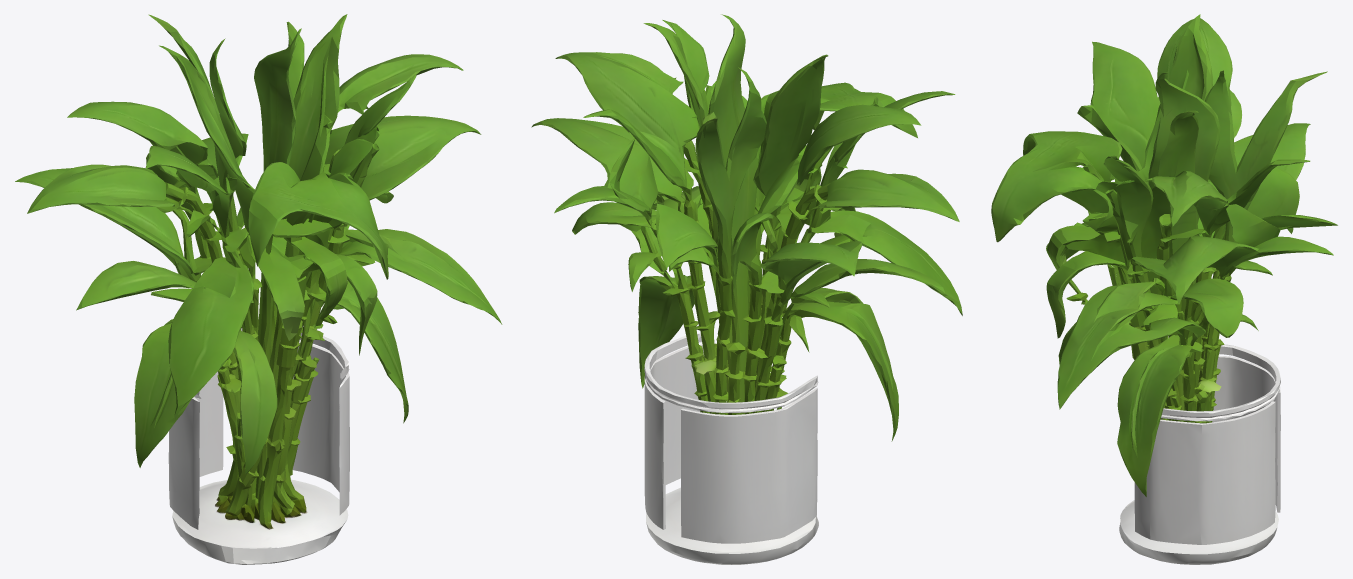
Rendered from bamboo.glb.
3 views of the same model, side by side, from view 1: azimuth 30°, elevation 25°; view 2: azimuth 150°, elevation 25°; view 3: azimuth 270°, elevation 25° (orthographic). The views are drawn at different scales.
Parts seen in each view (by area): view 1: model; view 2: model; view 3: model.
Part boxes in pixels (x1=…): model: x1=15, y1=14, x2=502, y2=564; model: x1=531, y1=14, x2=962, y2=564; model: x1=991, y1=14, x2=1337, y2=564.
Bounding box in the file's own units: 1.74 × 1.9 × 1.26.
1 material, 1 textured.
